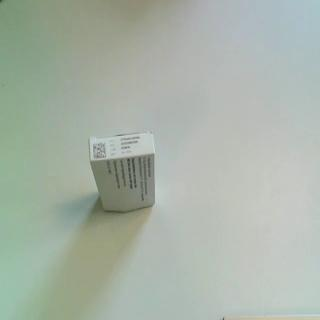oxycontin15mg: (87, 129, 157, 214)
